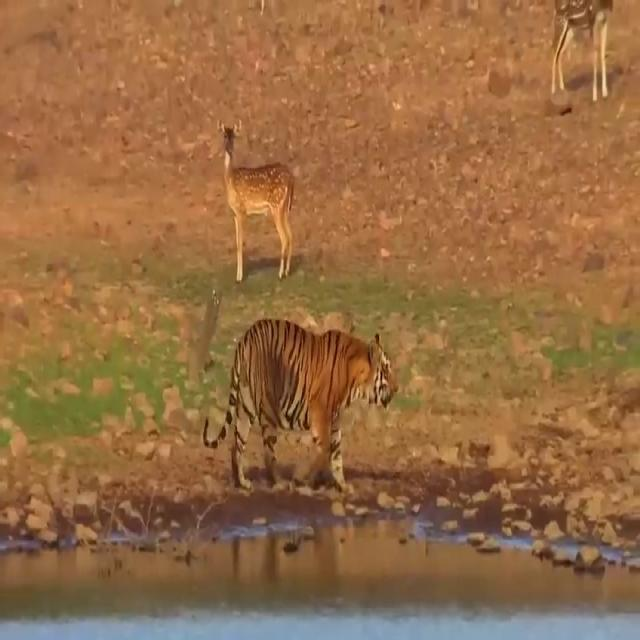tiger: (202, 316, 399, 494)
